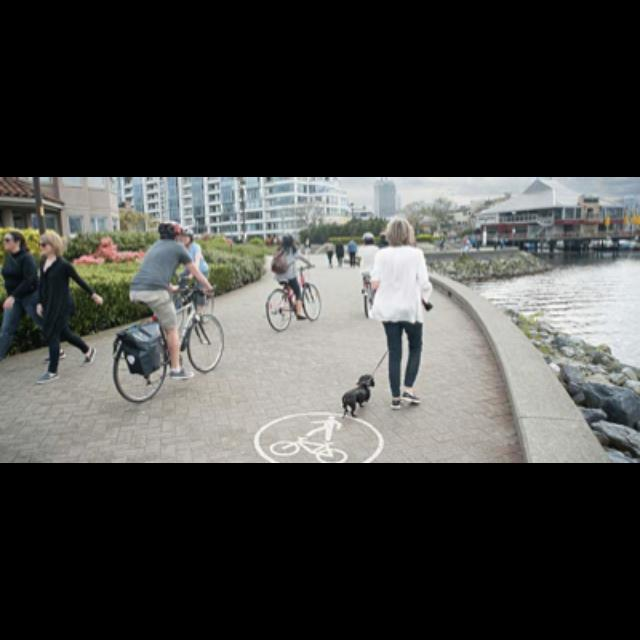With Helmet: (156, 216, 182, 244), (278, 230, 294, 248)
